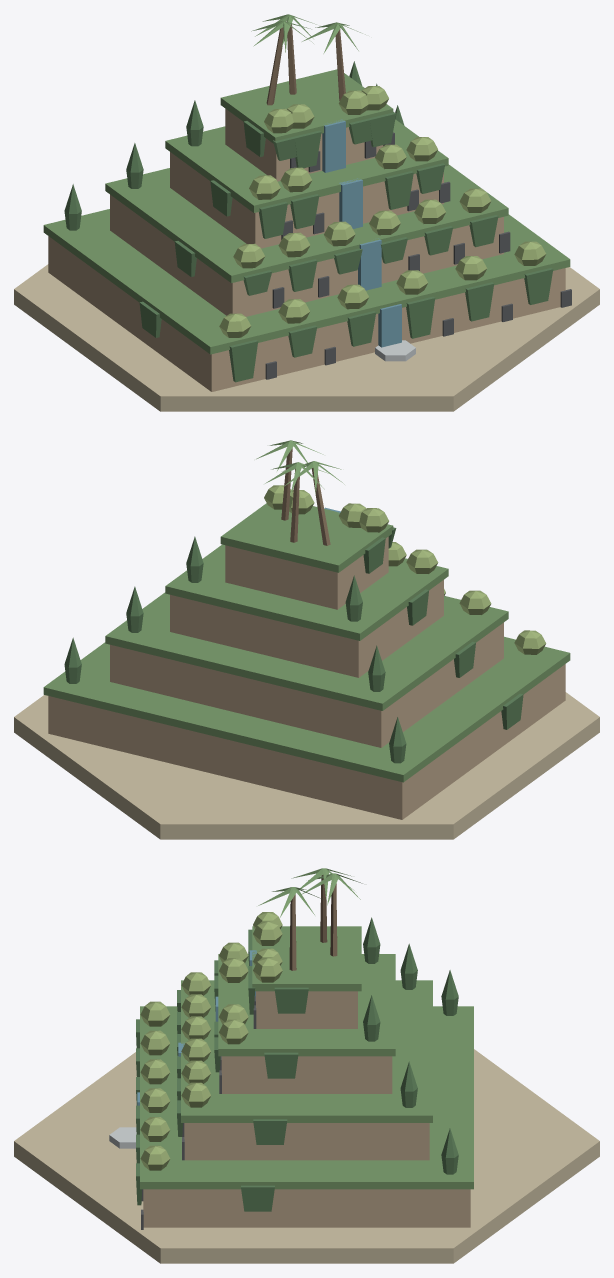
The model's file is hanging-gardens.glb.
3 renders of one model, top to bottom at view 1: azimuth 30°, elevation 25°; view 2: azimuth 150°, elevation 25°; view 3: azimuth 270°, elevation 25°, orthographic.
Visible parts, largest first — view 1: LOD0; view 2: LOD0; view 3: LOD0.
Boxes of the visible parts, x1=… form: LOD0: x1=14, y1=14, x2=599, y2=411; LOD0: x1=14, y1=440, x2=599, y2=839; LOD0: x1=14, y1=868, x2=599, y2=1263.
Size of what is drawn, in the model's own units: 1.49 by 0.91 by 1.72.
